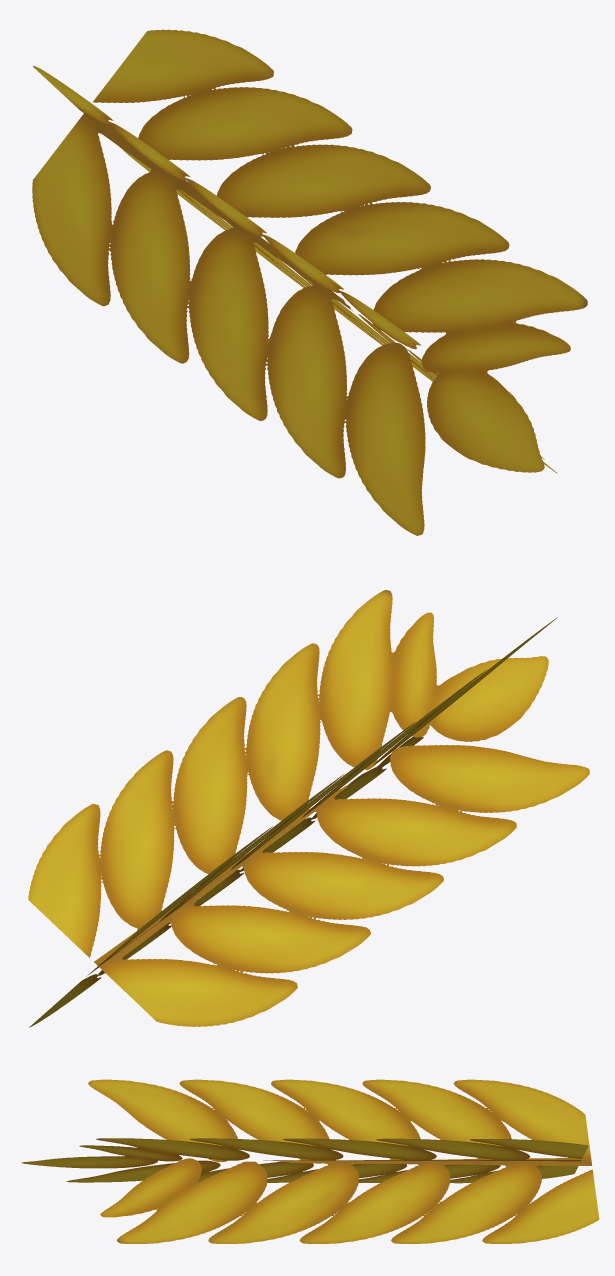
The model's file is Seed 1.fbx.
3 views of the same model, one above another, from view 1: azimuth 30°, elevation 25°; view 2: azimuth 150°, elevation 25°; view 3: azimuth 270°, elevation 25° (orthographic). The views are drawn at different scales.
Parts seen in each view (by area): view 1: Wheat_single_Plants_0; view 2: Wheat_single_Plants_0; view 3: Wheat_single_Plants_0.
Boxes of the visible parts, <box> form: Wheat_single_Plants_0: <box>32,29,587,535</box>; Wheat_single_Plants_0: <box>28,590,589,1027</box>; Wheat_single_Plants_0: <box>22,1079,599,1243</box>.
Size of the model in its own units: 19.07 by 17.85 by 70.55.
